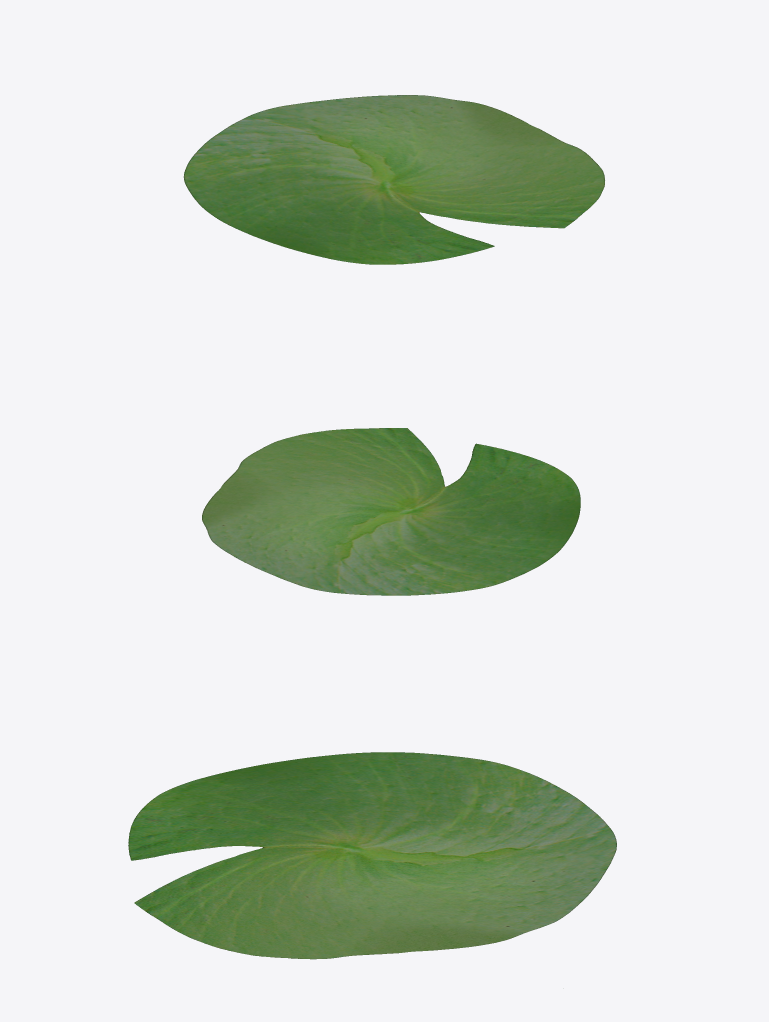
File: lily2.FBX
3 renders of one model, top to bottom at view 1: azimuth 30°, elevation 25°; view 2: azimuth 150°, elevation 25°; view 3: azimuth 270°, elevation 25°, orthographic. The views are drawn at different scales.
Visible parts, largest first — view 1: Plane022; view 2: Plane022; view 3: Plane022.
Part boxes in pixels (x1=…): Plane022: x1=183, y1=95, x2=604, y2=264; Plane022: x1=202, y1=428, x2=580, y2=595; Plane022: x1=128, y1=752, x2=616, y2=959.
Size of the model in its own units: 10.53 by 1.22e-06 by 10.88.
Materials: 1 (1 with a texture image).
